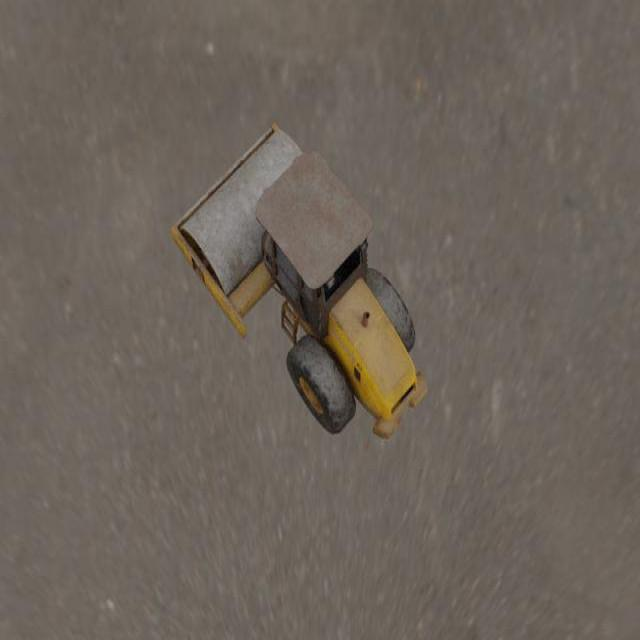Roller: (170, 122, 427, 438)
